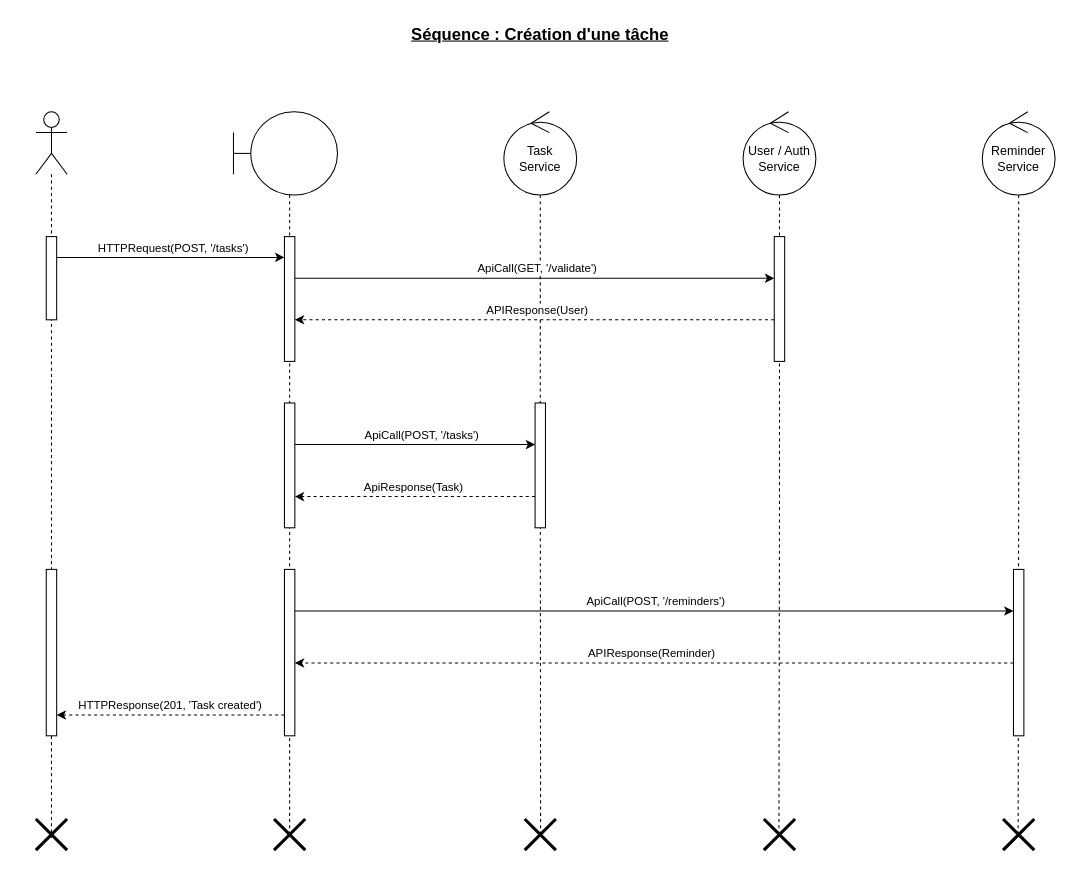
Some shapes in this 1073 by 869 pixel diagram are drawn without their labels. Each missing label, with the centre of its shape:
API Gateway: (x=284, y=153)
HTTP Client: (x=51, y=142)
